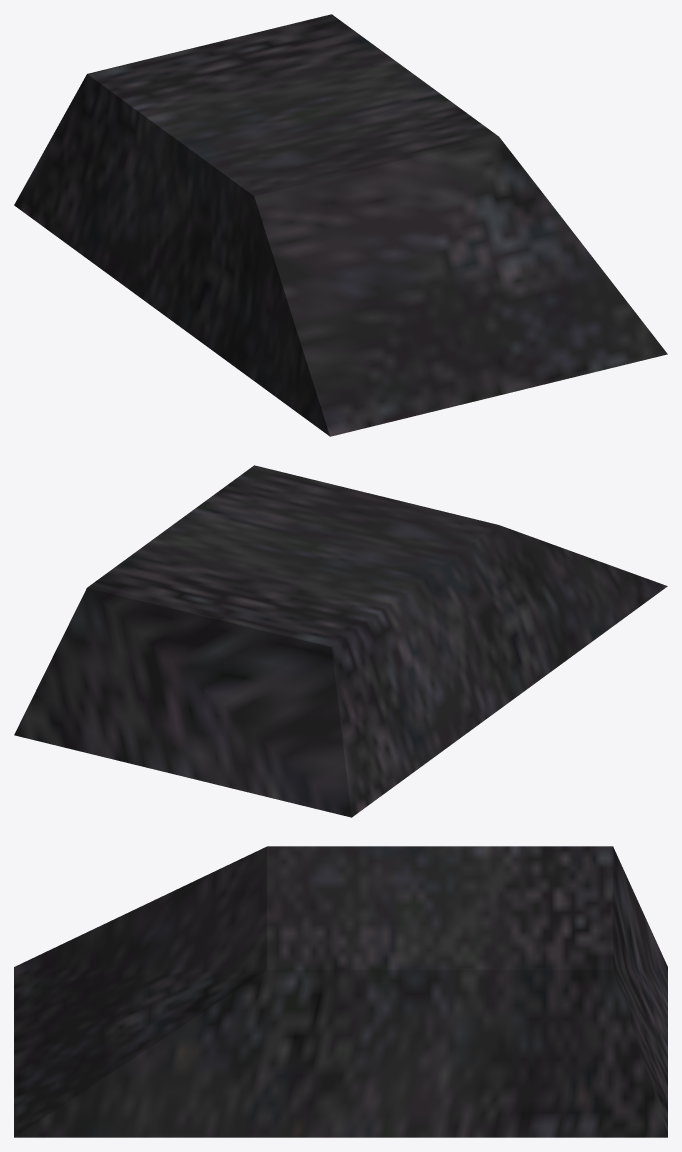
File: Radio04x.glb
3 renders of one model, top to bottom at view 1: azimuth 30°, elevation 25°; view 2: azimuth 150°, elevation 25°; view 3: azimuth 270°, elevation 25°, orthographic. The views are drawn at different scales.
Visible parts, largest first — view 1: _Radio04x; view 2: _Radio04x; view 3: _Radio04x.
Part boxes in pixels (box(x1,y1,x2,y2)): _Radio04x: box(14, 14, 667, 436); _Radio04x: box(14, 465, 667, 817); _Radio04x: box(14, 846, 667, 1137).
Size of the model in its own units: 0.1818 by 0.0717 by 0.2948.
1 material, 1 textured.
